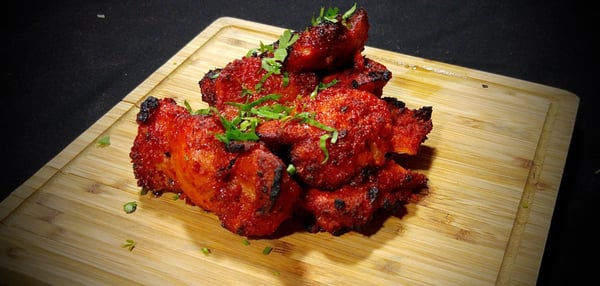curry: (17, 9, 584, 282)
